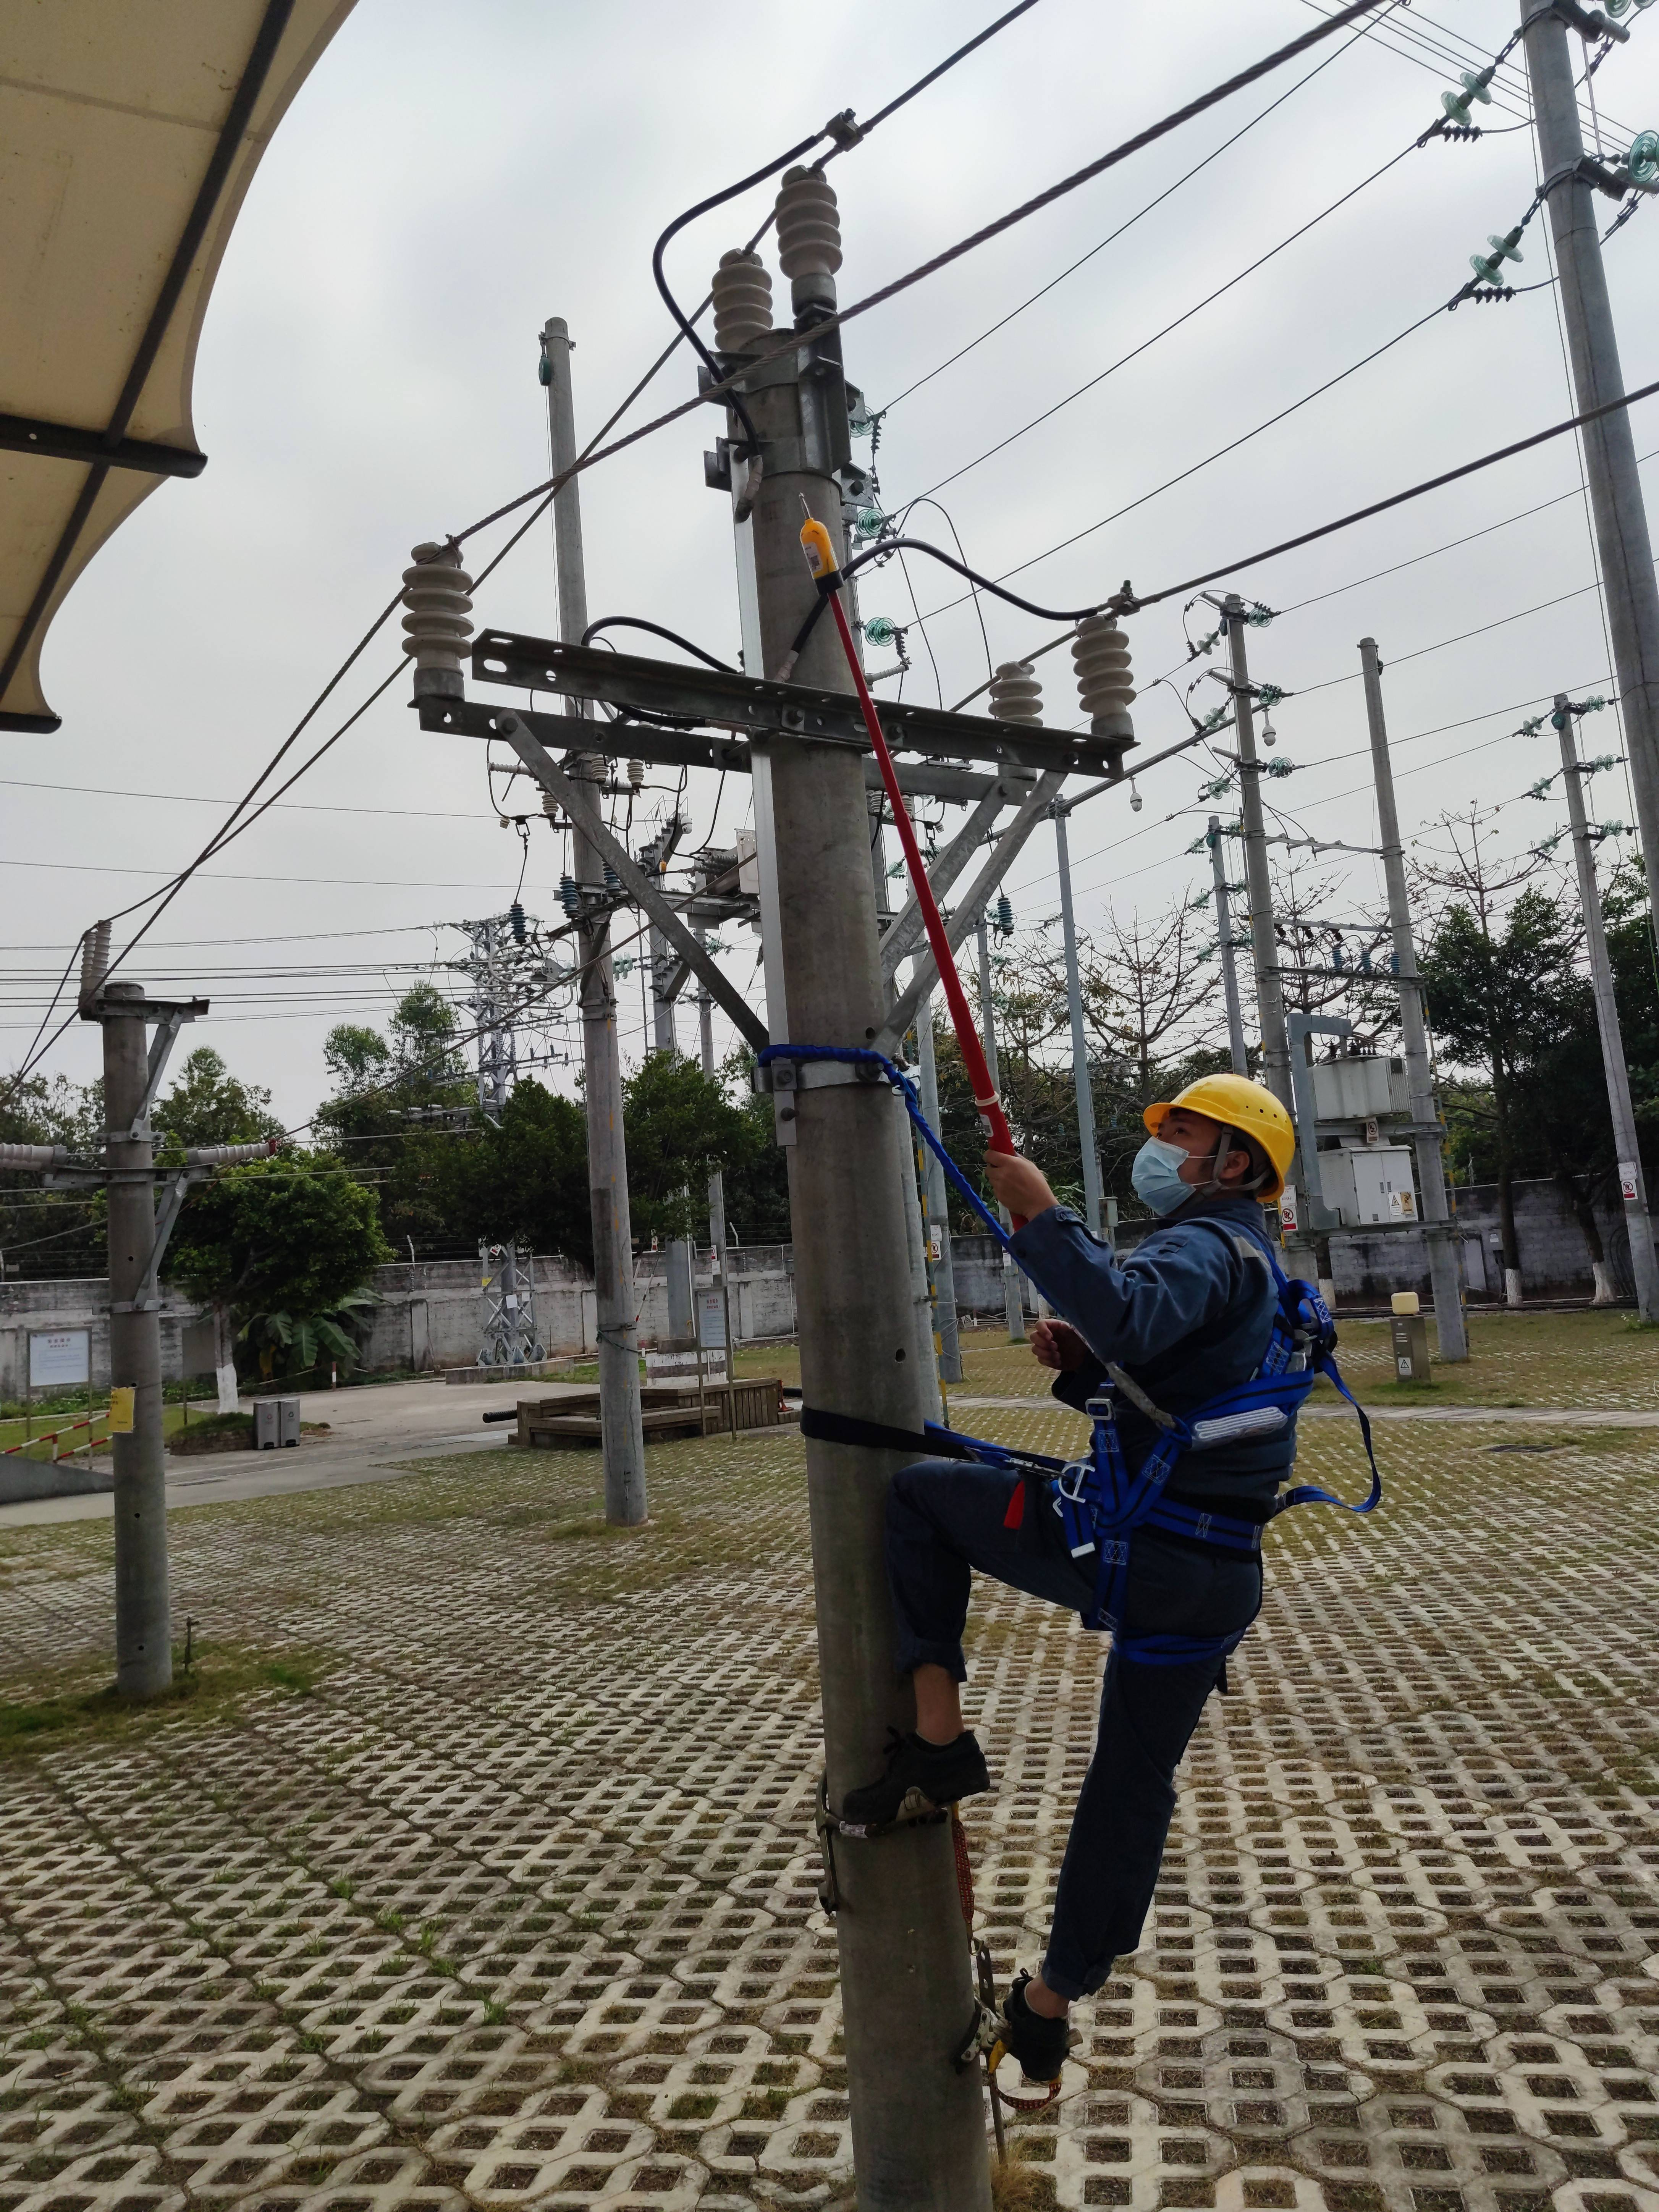downsuit: (880, 1470, 1260, 1991)
upsuit: (1039, 1205, 1312, 1526)
wrongbottom: (904, 1618, 971, 1750)
